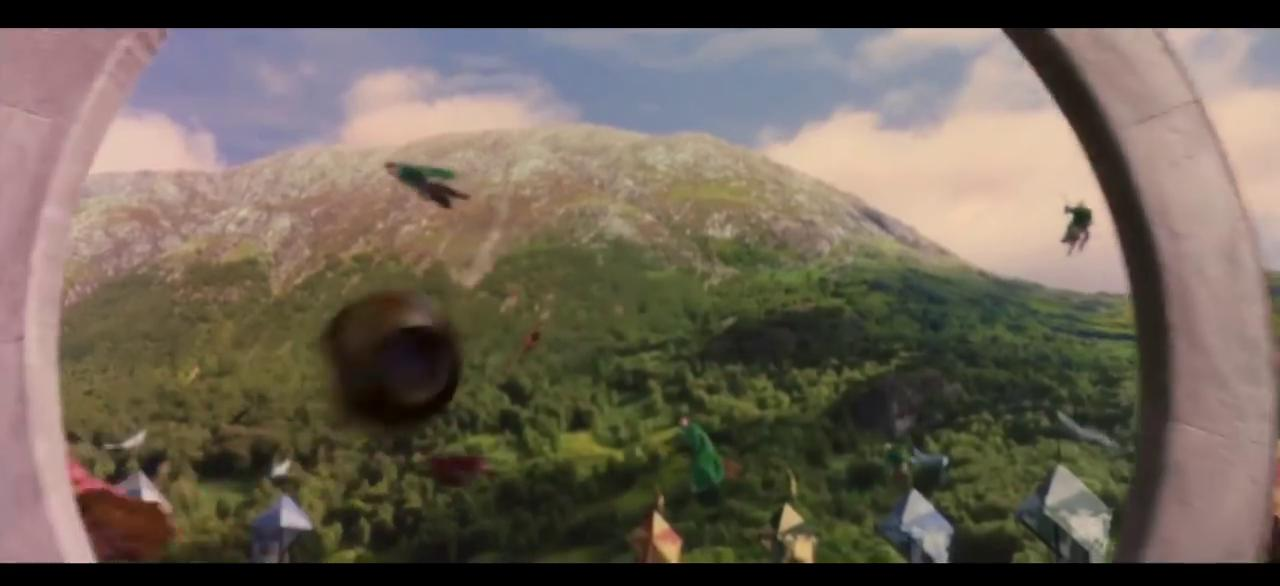quaffle: (321, 293, 464, 423)
